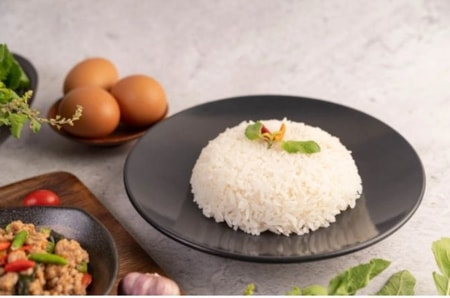Nasi Putih: (162, 110, 375, 247)
